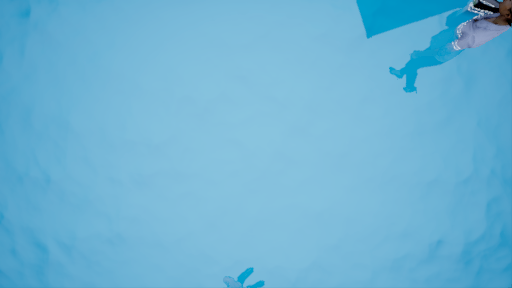person: (387, 5, 512, 73)
